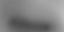RightEyeFatigue: (10, 13, 54, 32)
